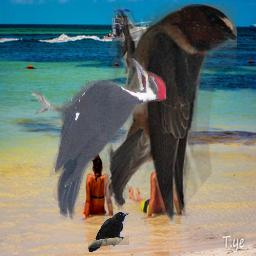Crow: (88, 212, 129, 252)
Swallow: (104, 3, 237, 222)
Woodpecker: (30, 58, 170, 220)
